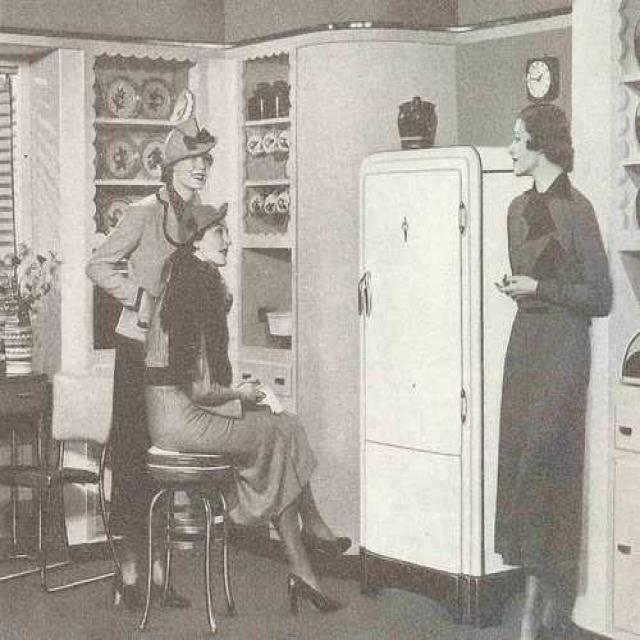refrigerator: (356, 149, 486, 578)
